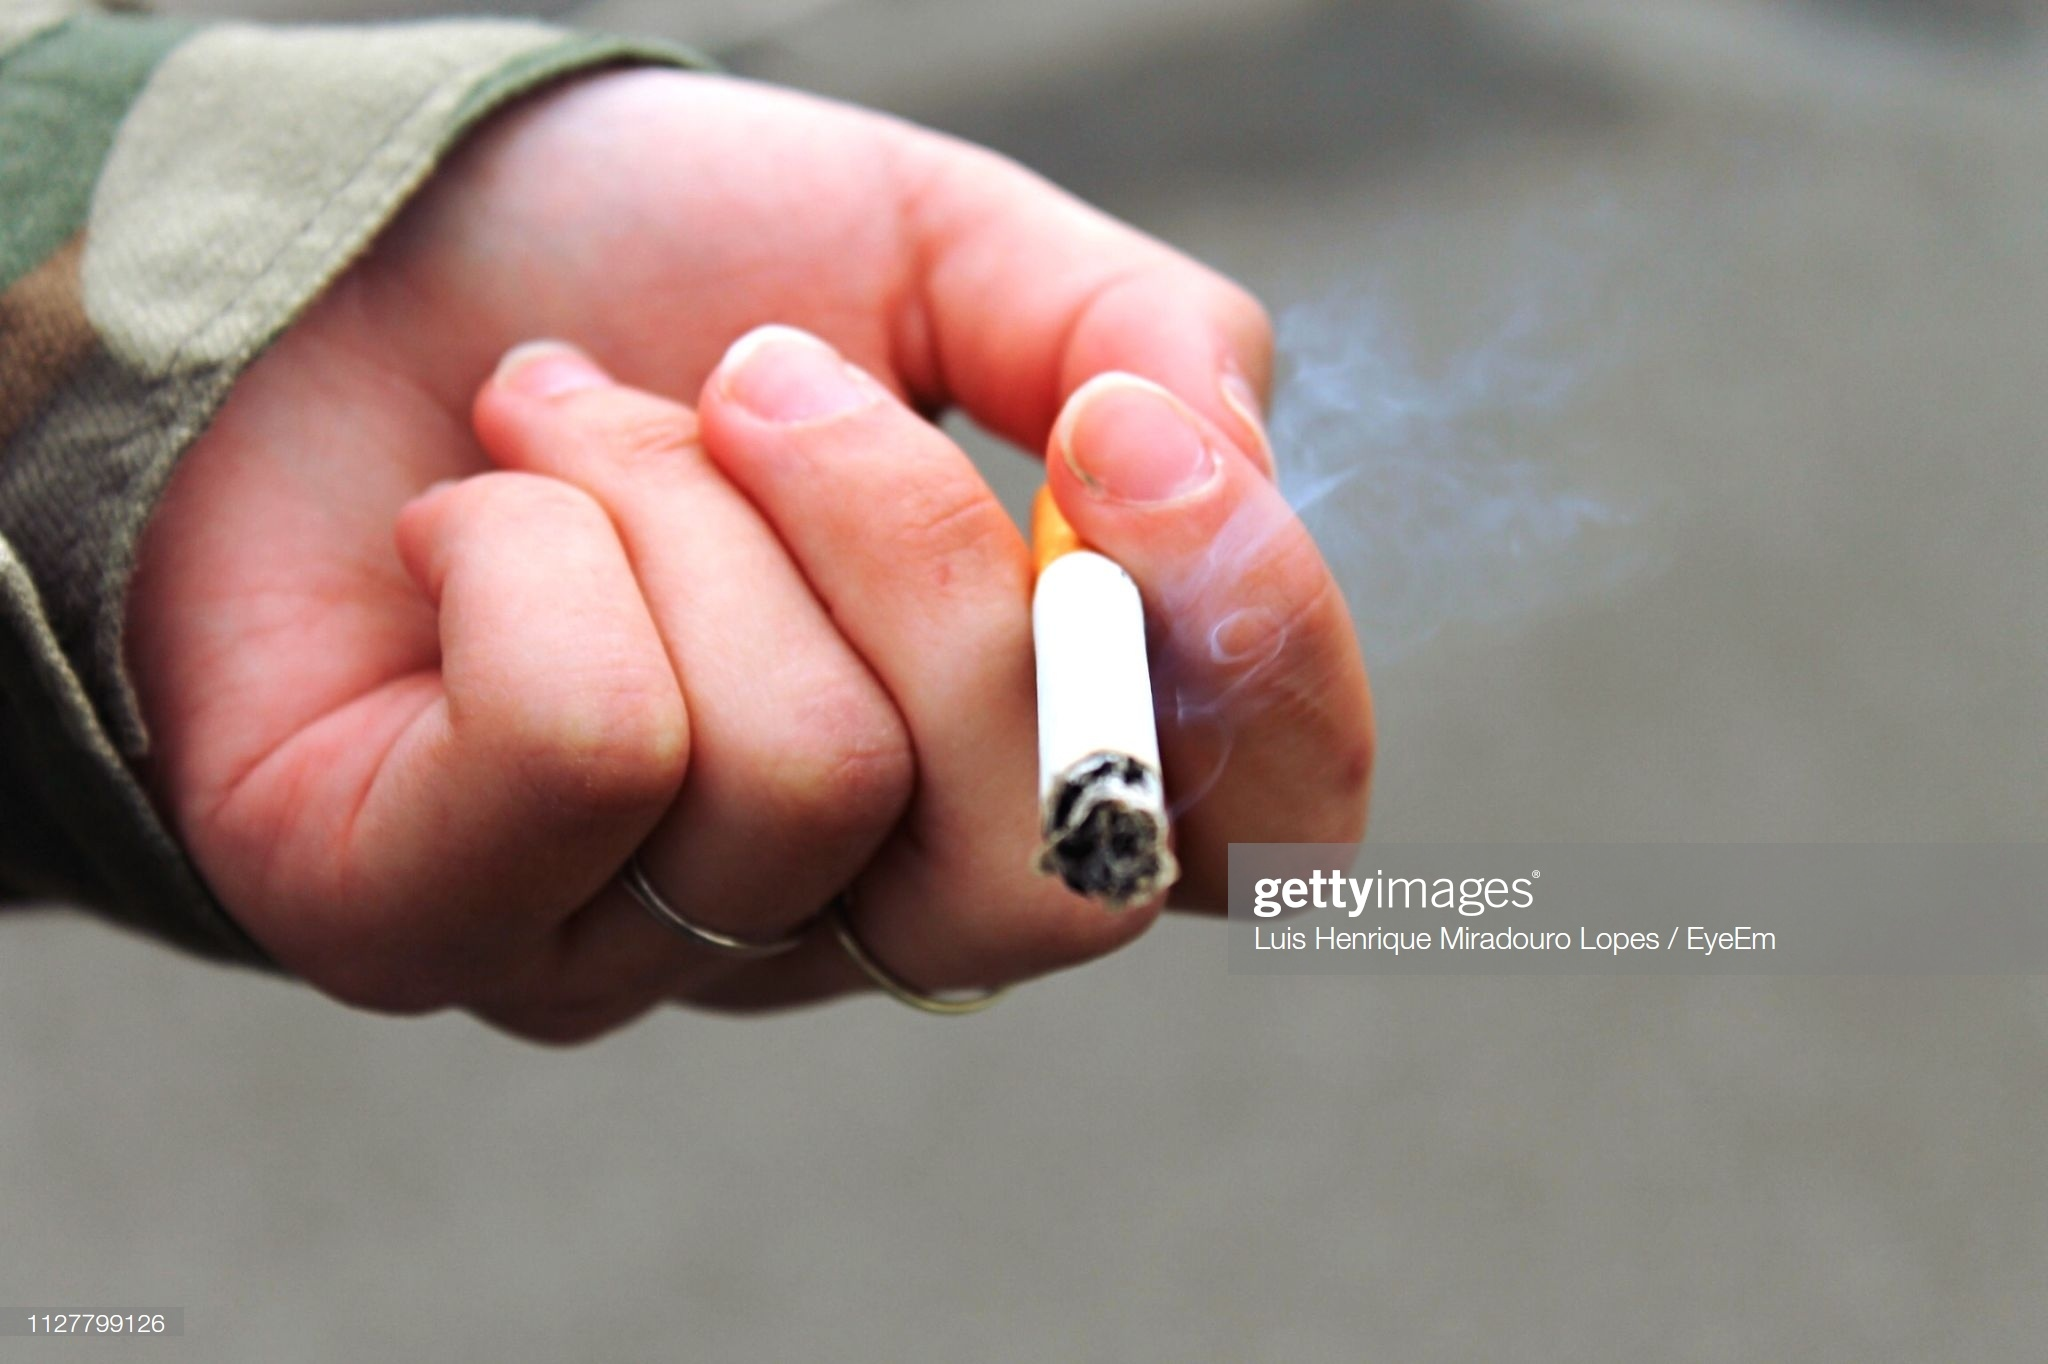sigaretta: (1016, 400, 1182, 919)
